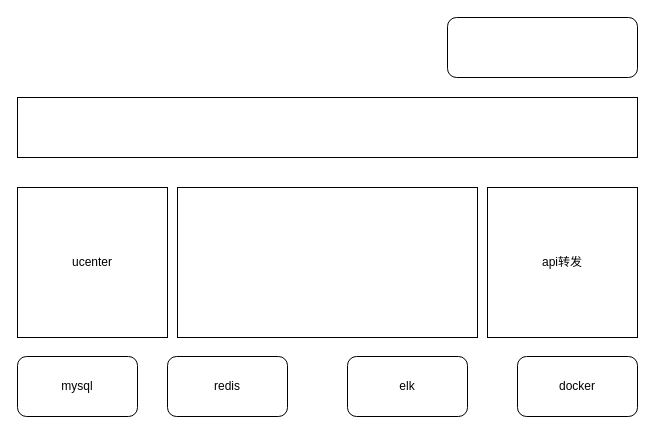
Some shapes in this 655 by 434 pixel diagram are drawn without their labels. Here are the shapes that lost their labels. From the top down, the centre of each, then its label:
the point at 542,47: 长链接接入层
the point at 327,127: gateway网关
the point at 327,262: orchestrator业务功能
